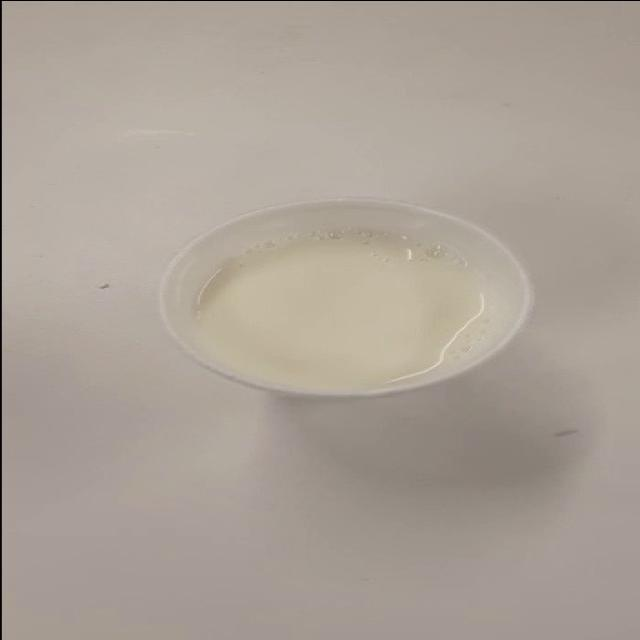Milk: (138, 169, 554, 461)
